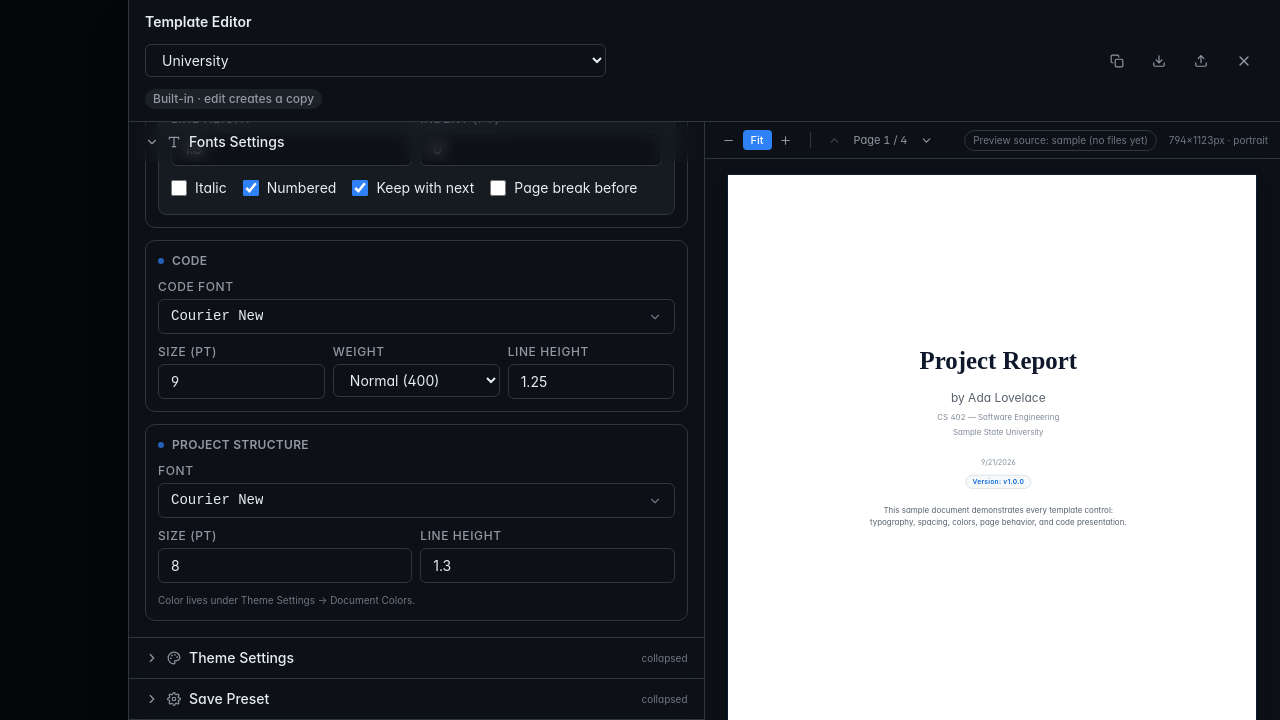
Scenario: editor structure (spec §2) › Theme Settings contains syntax theme, document colors, and code colors
The width and height of the screenshot is (1280, 720).
(page scrolled)
Click the button "Theme Settings collapsed".
click(242, 658)  # box x1=129 y1=638 x2=704 y2=678
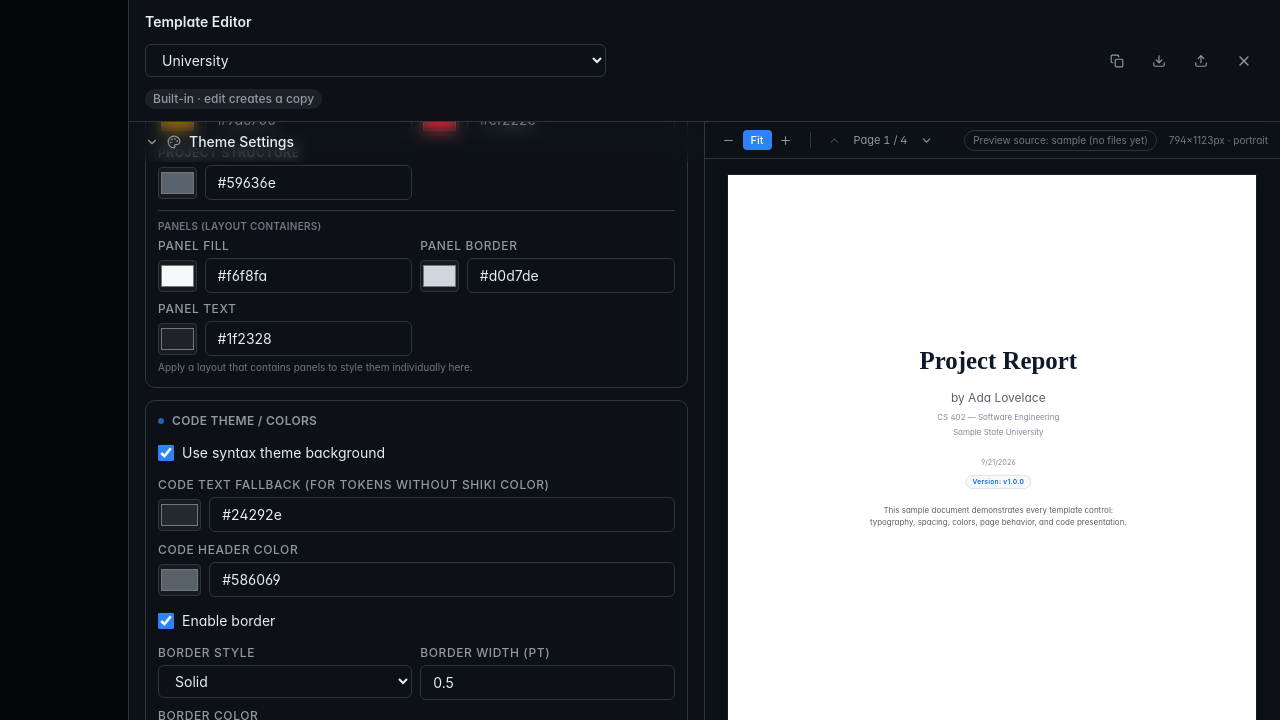
Check: the text "Code Theme / Colors" is shown, box x1=172 y1=413 x2=317 y2=429
